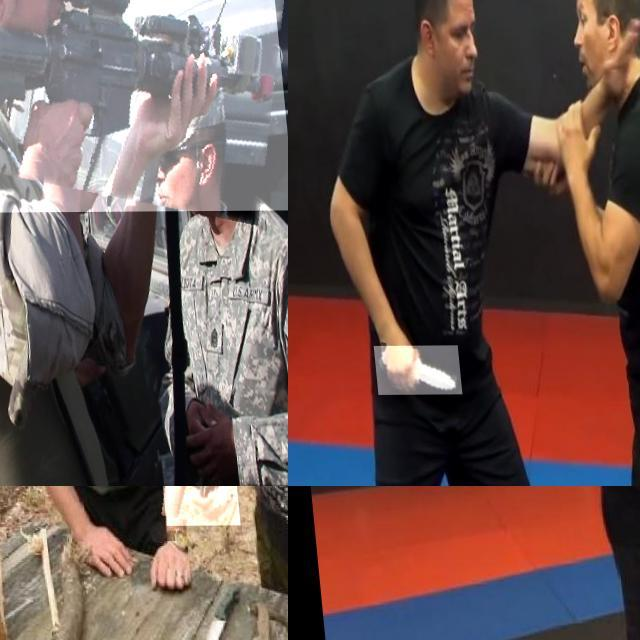-: (366, 346, 454, 395), (149, 486, 230, 529)
gun-knife-thesis - v11 Yolov5 augmented: (0, 0, 287, 213)
